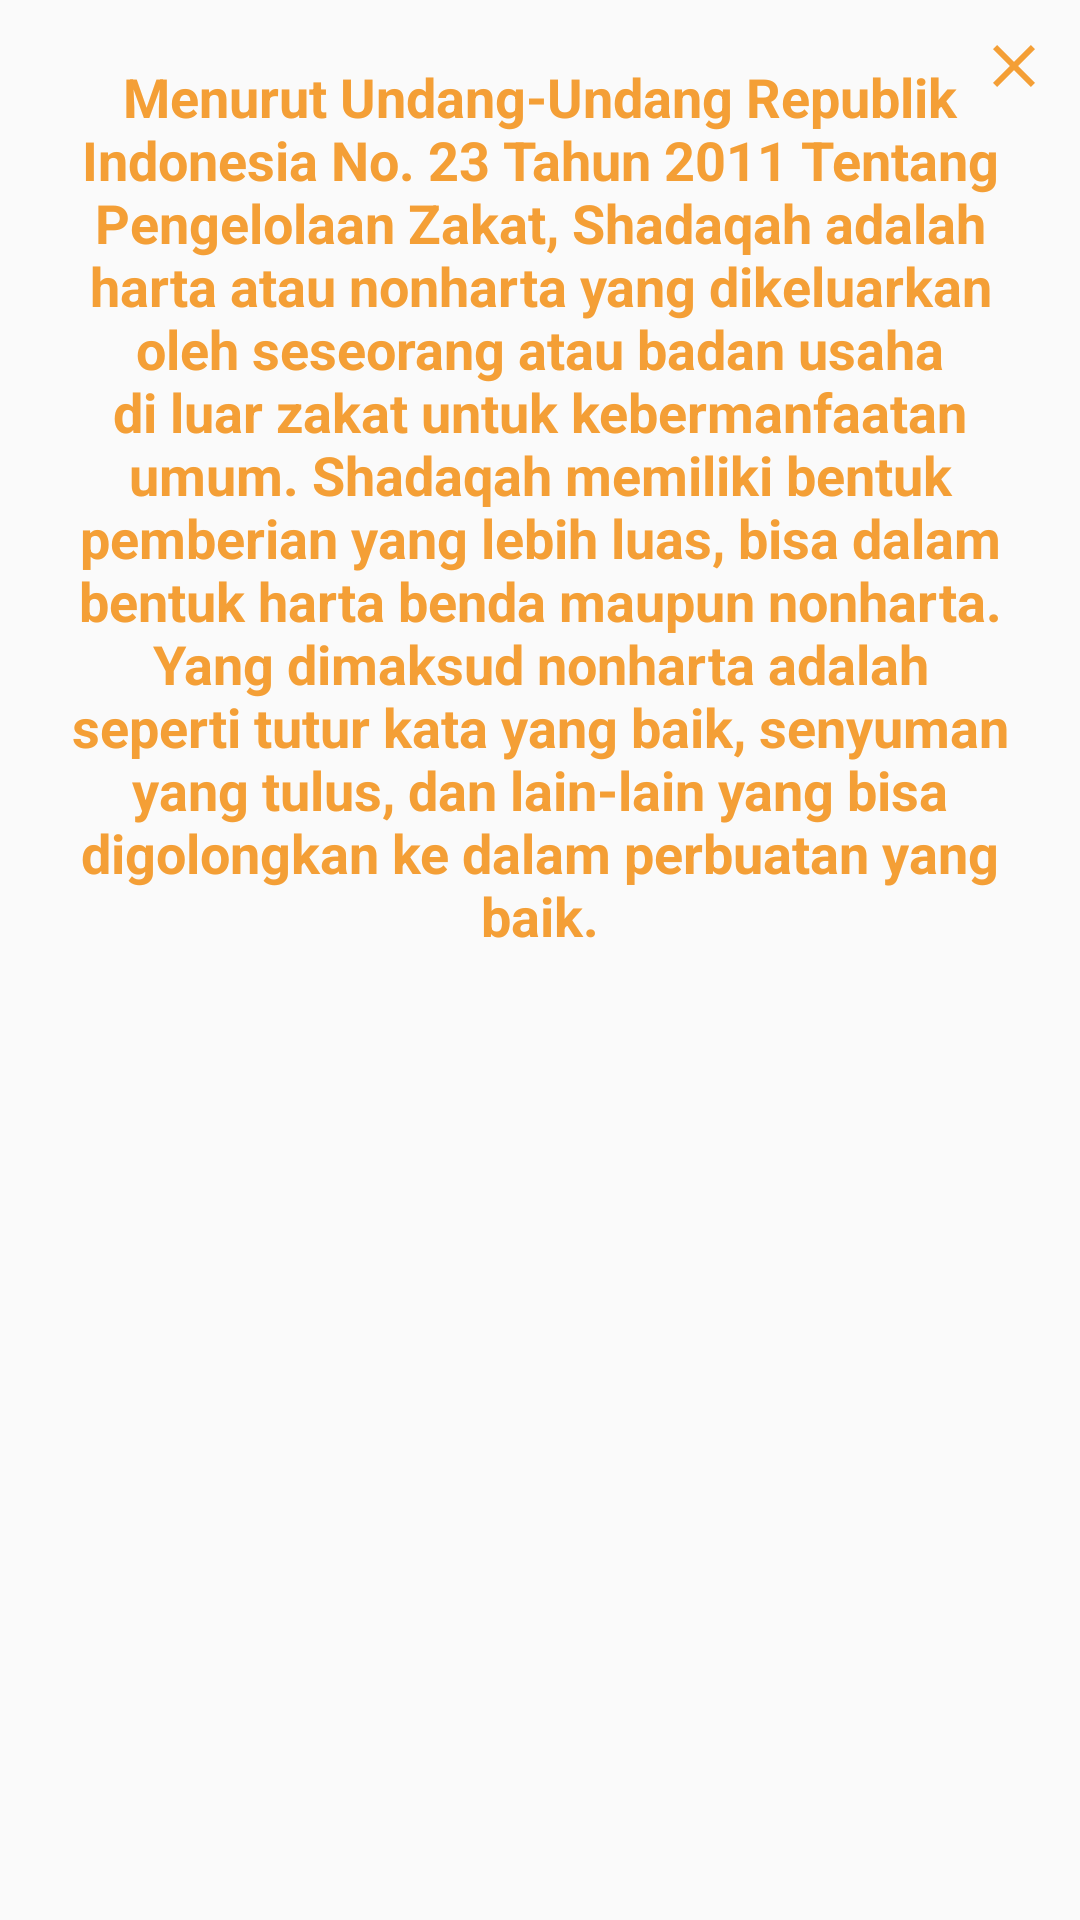

Icon click points for this 1080px×1920px phone screenshot, format (x,y):
tutupiconorange: (1014,66)
